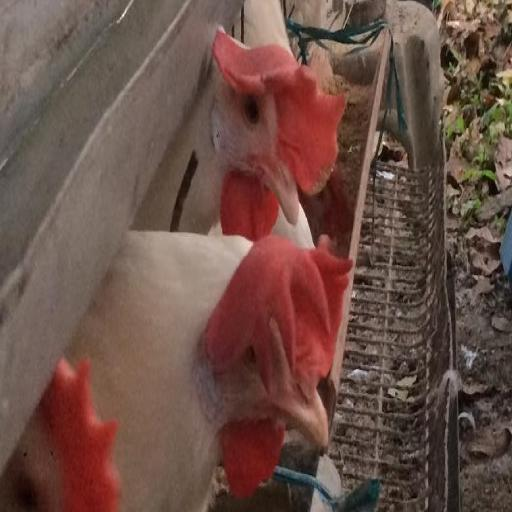healthy: (222, 236, 335, 450), (214, 27, 334, 218)
